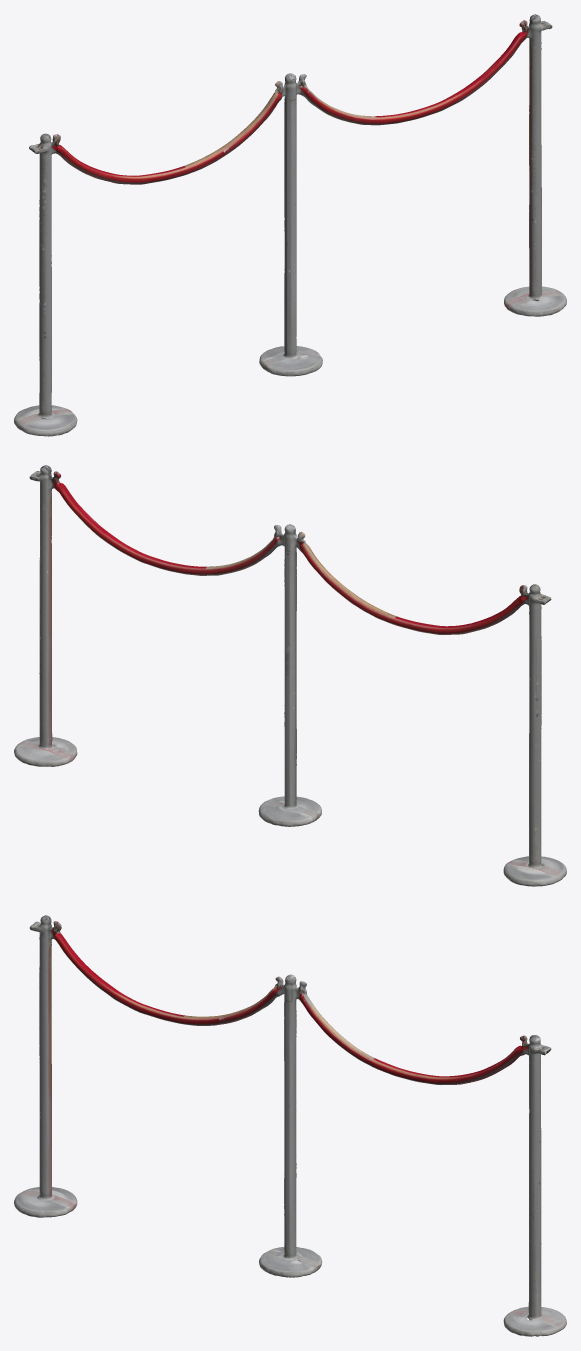
Rendered from Meshy_AI_Red_Rope_Barrier_0226074055_texture.glb.
3 views of the same model, one above another, from view 1: azimuth 30°, elevation 25°; view 2: azimuth 150°, elevation 25°; view 3: azimuth 330°, elevation 25° (orthographic).
Size of the model in its own units: 2 by 1.02 by 0.2019.
Materials: 1 (1 with a texture image).
